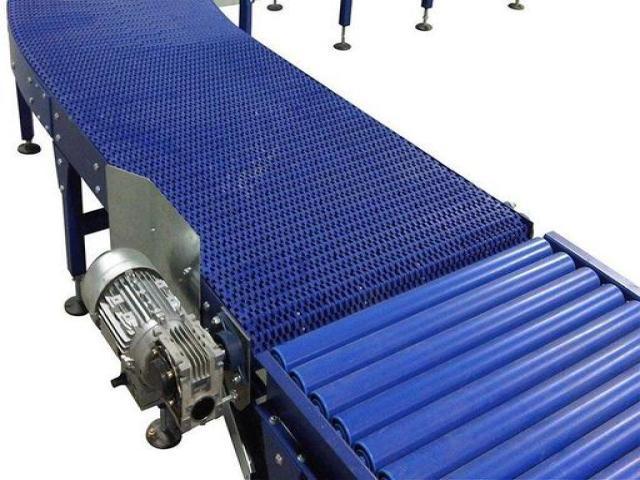conveyor: (2, 4, 640, 480)
